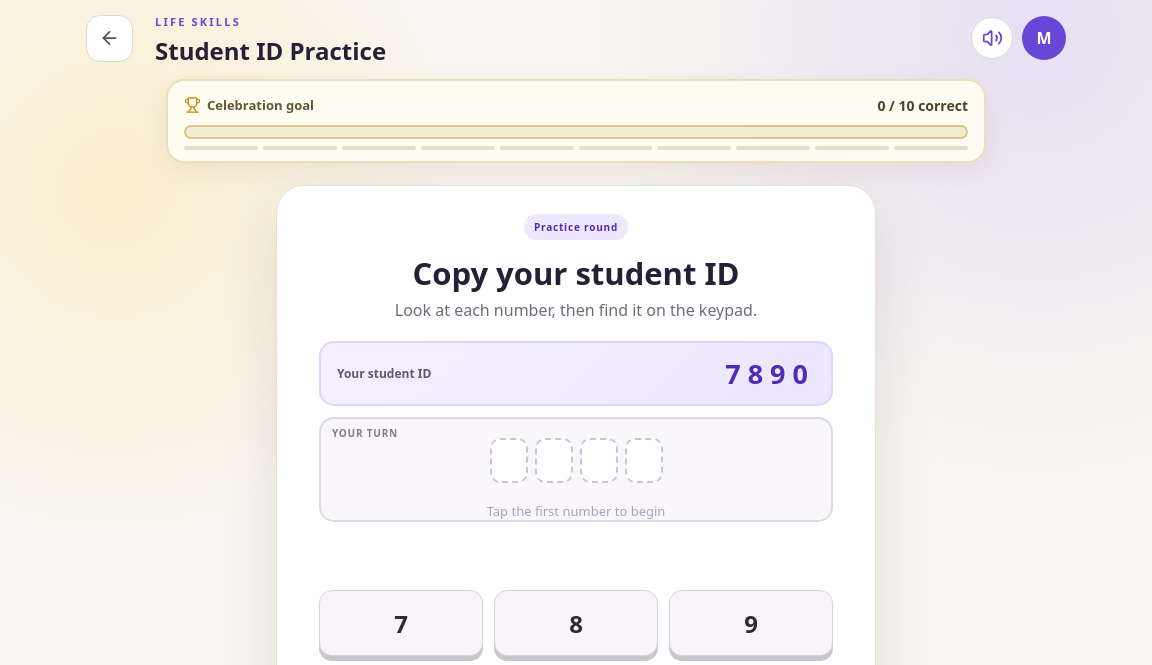
Student ID game mechanics › turns matching digits green and CLEAR resets the full input
The width and height of the screenshot is (1152, 665).
Step 1. Click the button named "Number 7" → x=401, y=623, box left=319, top=590, right=483, bottom=656
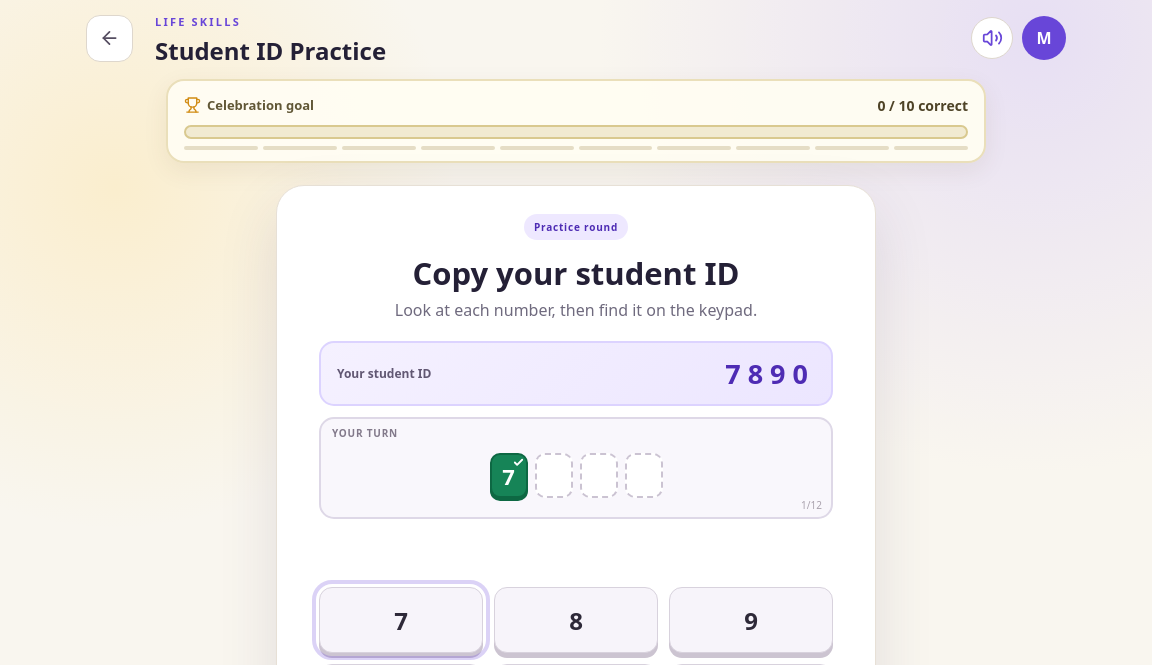
Step 2. Click the button named "Number 8" → x=576, y=620, box left=494, top=587, right=658, bottom=653
(page scrolled)
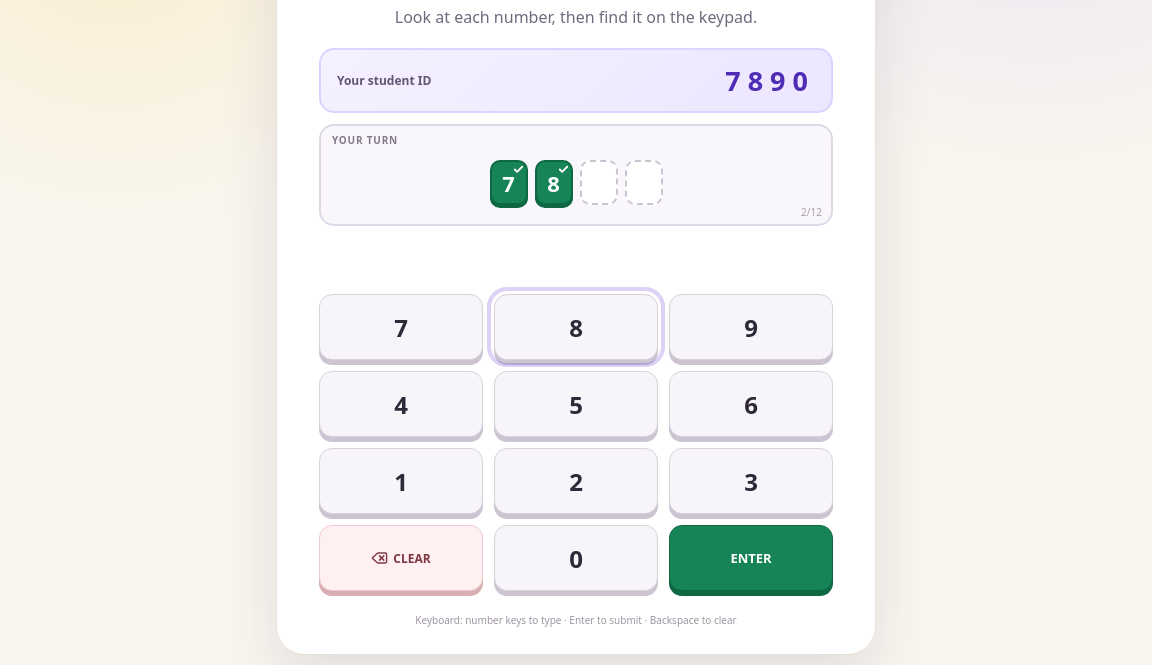
expect the element named "Entered digit 1: 7, correct" has class "correct": met, box left=490, top=160, right=528, bottom=205
expect the element named "Entered digit 2: 8, correct" has class "correct": met, box left=534, top=160, right=572, bottom=205
Step 3. Click the button with aria-label "Clear all digits" → x=401, y=558, box left=319, top=525, right=483, bottom=591
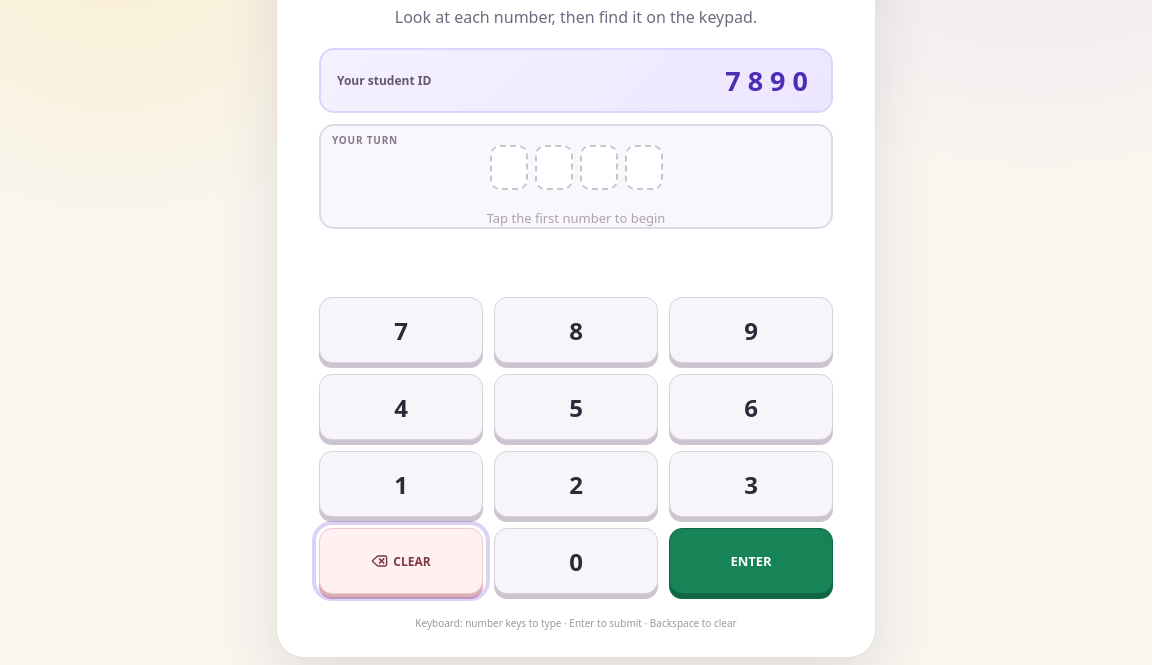
expect the text "Tap the first number to begin" is shown: met, box left=487, top=209, right=665, bottom=227
